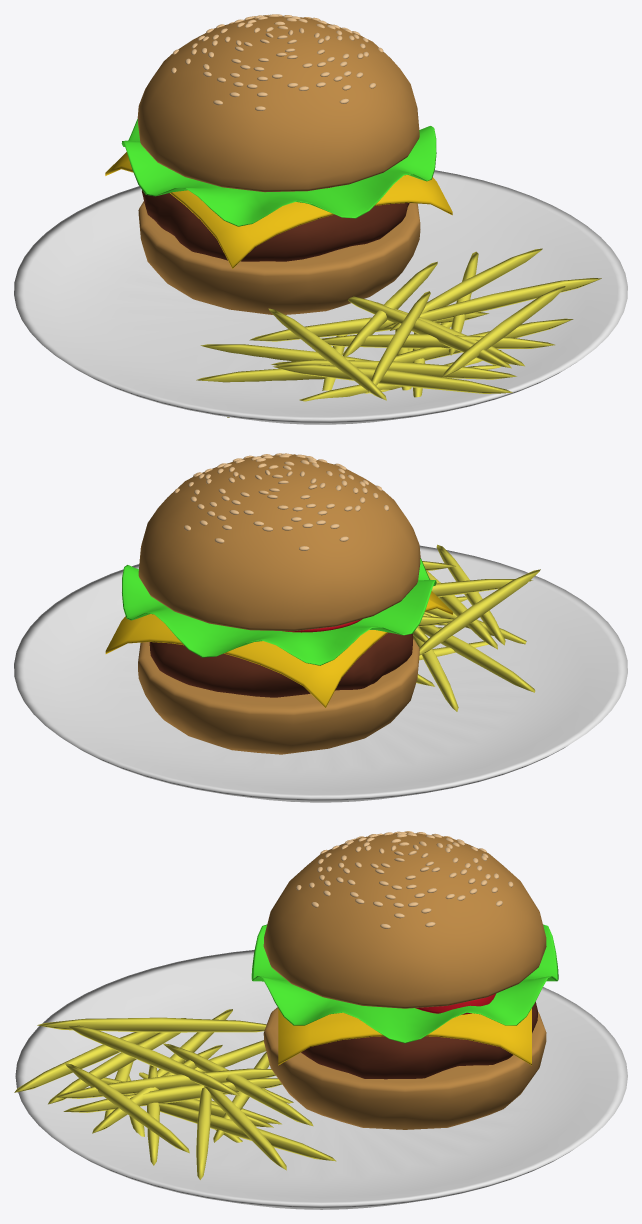
Rendered from classic-burger.glb.
3 renders of one model, top to bottom at view 1: azimuth 30°, elevation 25°; view 2: azimuth 150°, elevation 25°; view 3: azimuth 270°, elevation 25°, orthographic.
Parts seen in each view (by area): view 1: burger, plate, Cube.028, Cube.035, Cube.029, Cube.027, Cube.025, Cube.036, Cube.033, Cube.032, Cube.018, Cube.034 (+6 smaller); view 2: burger, plate, Cube.033, Cube.014, Cube.028, Cube.031, Cube.017, Cube.027; view 3: burger, plate, Cube.033, Cube.031, Cube.025, Cube.030, Cube.034, Cube.026, Cube.036, Cube.028, Cube.032, Cube.027 (+6 smaller).
Boxes of the visible parts, x1,y1,x2,y2 form: burger: (105, 15, 452, 314); plate: (14, 170, 627, 424); Cube.028: (273, 364, 512, 393); Cube.035: (384, 278, 601, 328); Cube.029: (321, 334, 554, 348); Cube.027: (271, 359, 516, 379); Cube.025: (348, 296, 511, 368); Cube.036: (443, 286, 565, 376); Cube.033: (268, 308, 386, 400); Cube.032: (390, 248, 542, 330); Cube.018: (249, 312, 488, 341); Cube.034: (343, 261, 437, 357); burger: (105, 454, 452, 754); plate: (14, 545, 627, 802); Cube.033: (419, 569, 540, 655); Cube.014: (419, 625, 535, 692); Cube.028: (436, 544, 505, 645); Cube.031: (431, 579, 532, 597); Cube.017: (413, 626, 458, 711); Cube.027: (426, 570, 497, 649); burger: (251, 832, 558, 1129); plate: (15, 950, 627, 1209); Cube.033: (37, 1017, 266, 1032); Cube.031: (69, 1025, 239, 1095); Cube.025: (55, 1068, 275, 1098); Cube.030: (159, 1102, 336, 1161); Cube.034: (163, 1043, 313, 1126); Cube.026: (63, 1078, 282, 1112); Cube.036: (65, 1063, 189, 1153); Cube.028: (14, 1018, 186, 1092); Cube.032: (204, 1086, 286, 1170); Cube.027: (48, 1032, 180, 1104).
Bounding box in the file's own units: 4.95 × 2.37 × 4.96.
